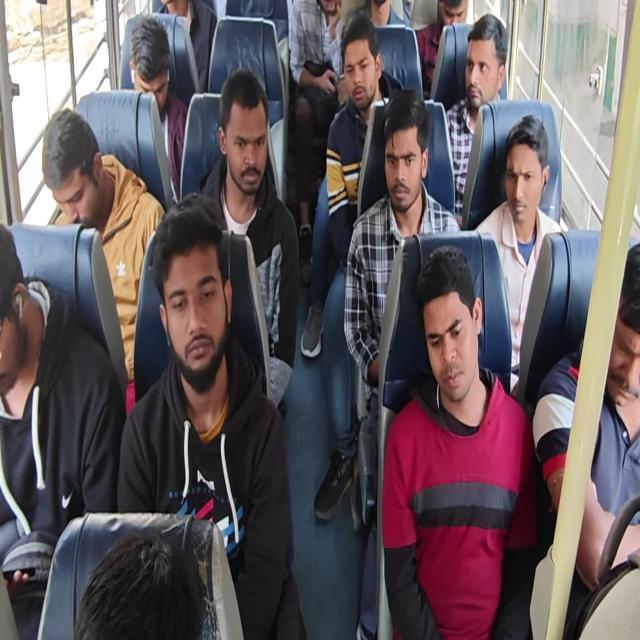person: (67, 527, 228, 640), (155, 218, 231, 377), (496, 131, 559, 252), (420, 271, 480, 398), (0, 228, 39, 409), (42, 124, 100, 230), (456, 19, 518, 116), (606, 250, 640, 421), (219, 94, 270, 192), (383, 110, 426, 202), (128, 27, 164, 119), (343, 36, 377, 110), (429, 0, 483, 36)
